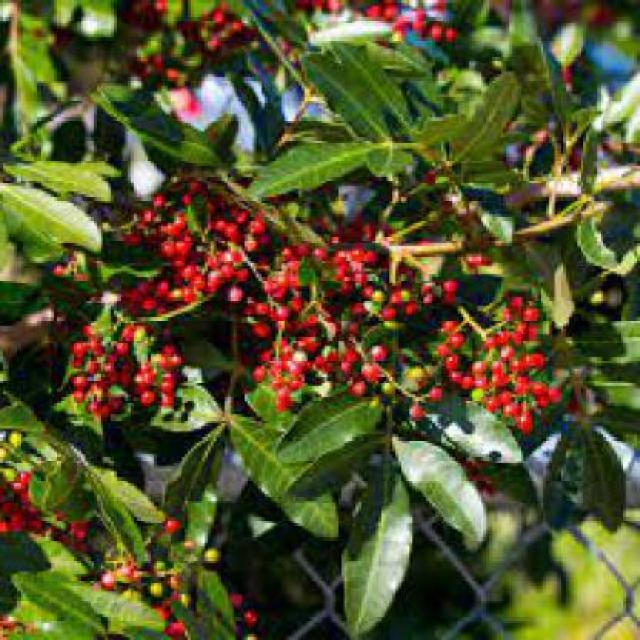RIPE: (251, 257, 429, 392), (442, 297, 560, 426)
